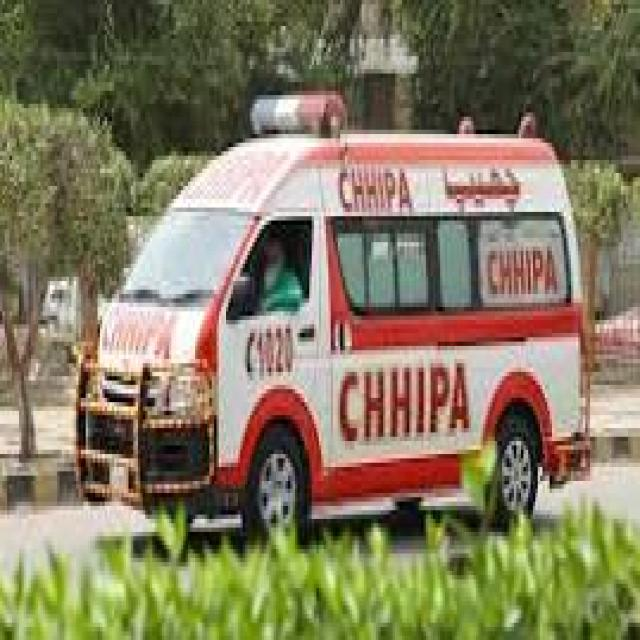ambulance: (58, 44, 601, 545)
